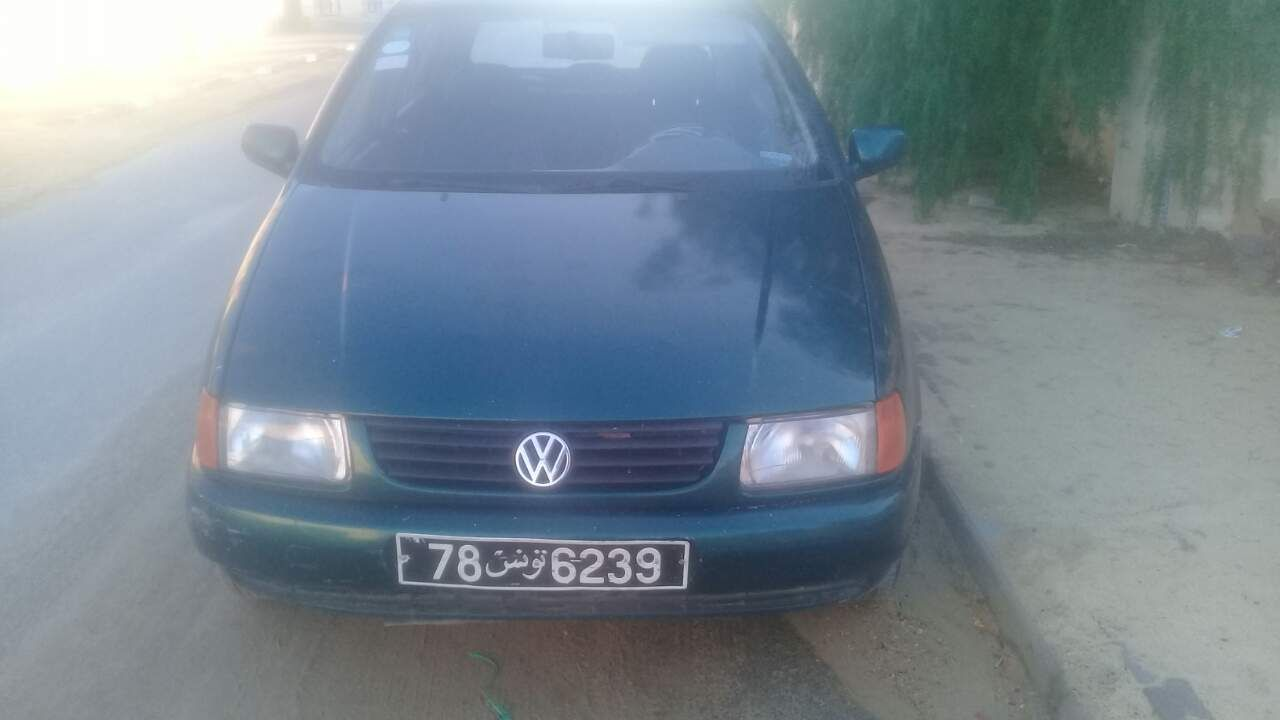LP: (394, 531, 690, 591)
